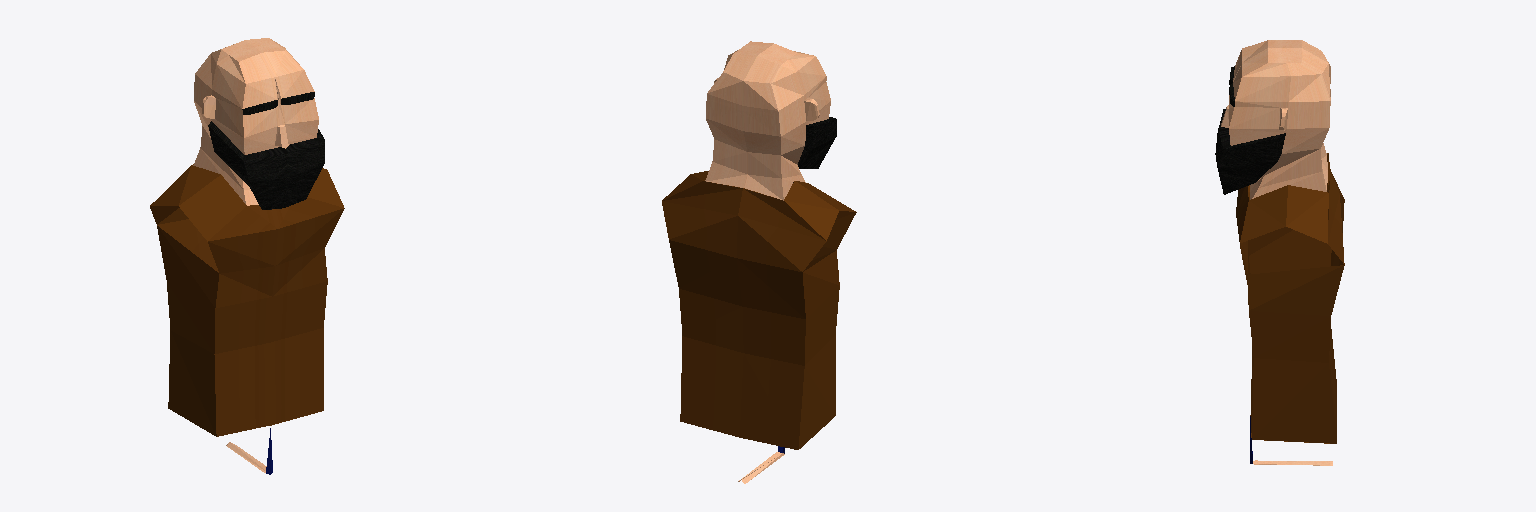
3 renders of one model, left to right at view 1: azimuth 30°, elevation 25°; view 2: azimuth 150°, elevation 25°; view 3: azimuth 270°, elevation 25°, orthographic.
Parts seen in each view (by area): view 1: Cube.001; view 2: Cube.001; view 3: Cube.001.
Part boxes in pixels (x1,y1,x2,y2): Cube.001: (150,38,344,474); Cube.001: (662,41,856,483); Cube.001: (1215,40,1344,465).
Size of the model in its own units: 0.853 by 2.05 by 0.5788.
Materials: 4 (4 with a texture image).